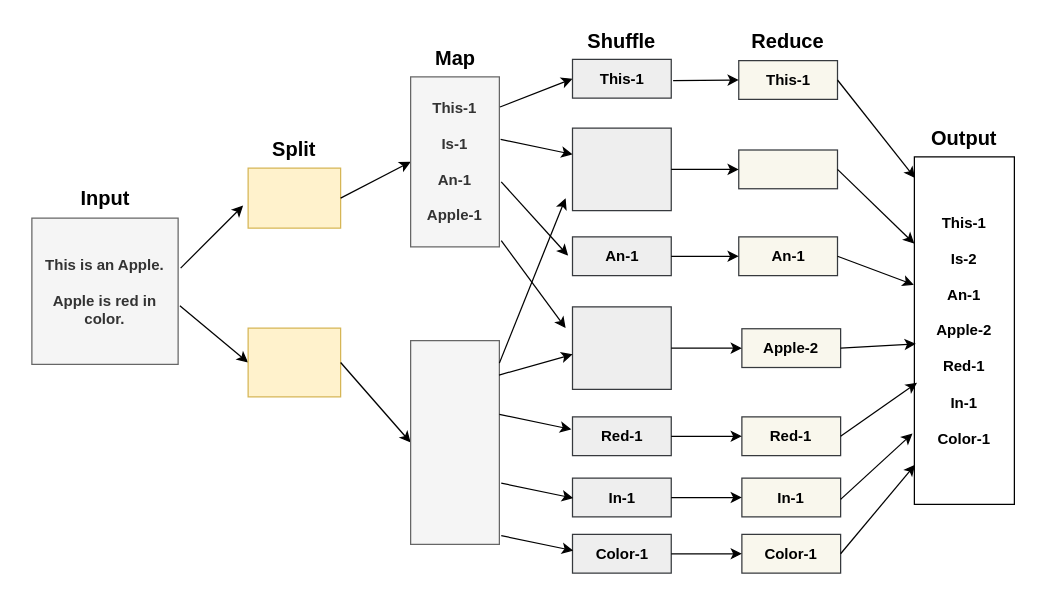
Image size: 1051x609. Some labels were removed from this diagram. Here are the shapes that lost their labels. From the top down, the box of each, then its label:
(571, 127, 671, 211): Is-1 Is-1
(738, 149, 838, 189): Is-2
(247, 167, 341, 228): This is an Apple
(247, 327, 341, 397): Apple is red in color
(571, 306, 671, 389): Apple- 1 Apple- 1
(409, 339, 499, 544): Apple-1 Is-1 Red-1 In-1 Color-1
